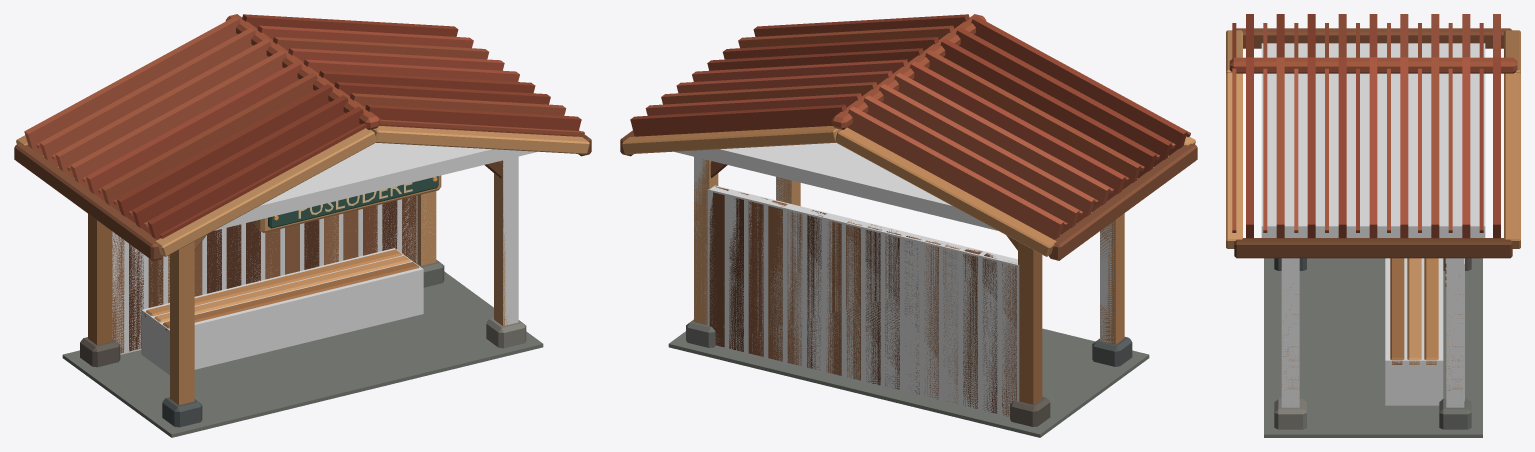
Rendered from bus_stop.glb.
3 renders of one model, left to right at view 1: azimuth 30°, elevation 25°; view 2: azimuth 150°, elevation 25°; view 3: azimuth 270°, elevation 25°, orthographic.
Visible parts, largest first — view 1: Roof, Platform, Bench-col, Back wall, Fascia, Frame, Ceiling-col, Back-col, Bench, Footings, Roof seams, Sign (+1 smaller); view 2: Roof, Back-col, Back wall, Fascia, Platform, Frame, Ceiling-col, Shell-col, Footings; view 3: Ceiling-col, Platform, Roof, Fascia, Roof seams, Shell-col, Bench, Bench-col, Footings.
Boxes of the visible parts, box(x1,y1,x2,y2) form: Roof: box(24, 14, 581, 239); Platform: box(62, 271, 543, 437); Bench-col: box(141, 248, 423, 374); Back wall: box(112, 195, 416, 353); Fascia: box(14, 126, 591, 260); Frame: box(88, 160, 507, 404); Ceiling-col: box(214, 143, 537, 230); Back-col: box(112, 196, 417, 354); Bench: box(144, 249, 419, 330); Footings: box(80, 260, 526, 427); Roof seams: box(36, 33, 584, 238); Sign: box(255, 175, 441, 232); Roof: box(630, 14, 1187, 239); Back-col: box(707, 185, 1019, 418); Back wall: box(709, 186, 1016, 416); Fascia: box(620, 126, 1197, 260); Platform: box(668, 328, 1149, 437); Frame: box(694, 159, 1124, 404); Ceiling-col: box(674, 143, 997, 230); Shell-col: box(694, 157, 1115, 343); Footings: box(686, 319, 1132, 426); Ceiling-col: box(1261, 43, 1485, 237); Platform: box(1264, 258, 1482, 437); Roof: box(1229, 14, 1517, 238); Fascia: box(1226, 28, 1520, 258); Roof seams: box(1232, 23, 1483, 232); Shell-col: box(1281, 258, 1464, 407); Bench: box(1390, 258, 1438, 364); Bench-col: box(1385, 258, 1443, 405); Footings: box(1274, 258, 1471, 429).
Bounding box in the file's own units: 5.36 × 3.38 × 3.1.
